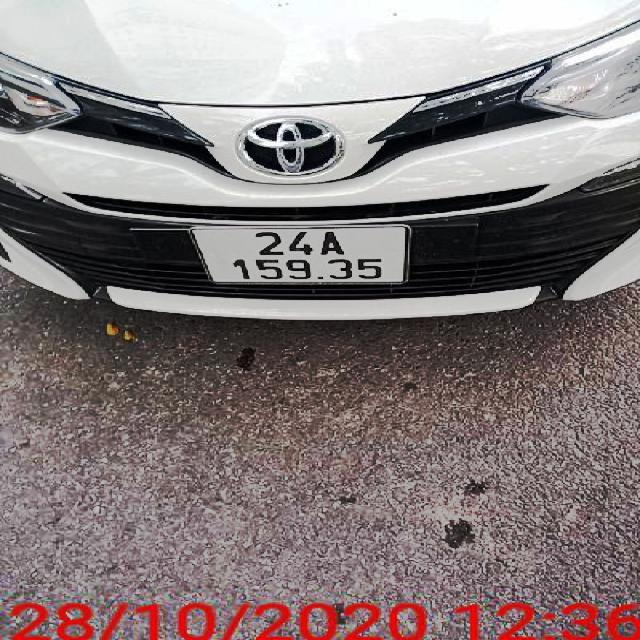license_plate: (187, 226, 413, 285)
